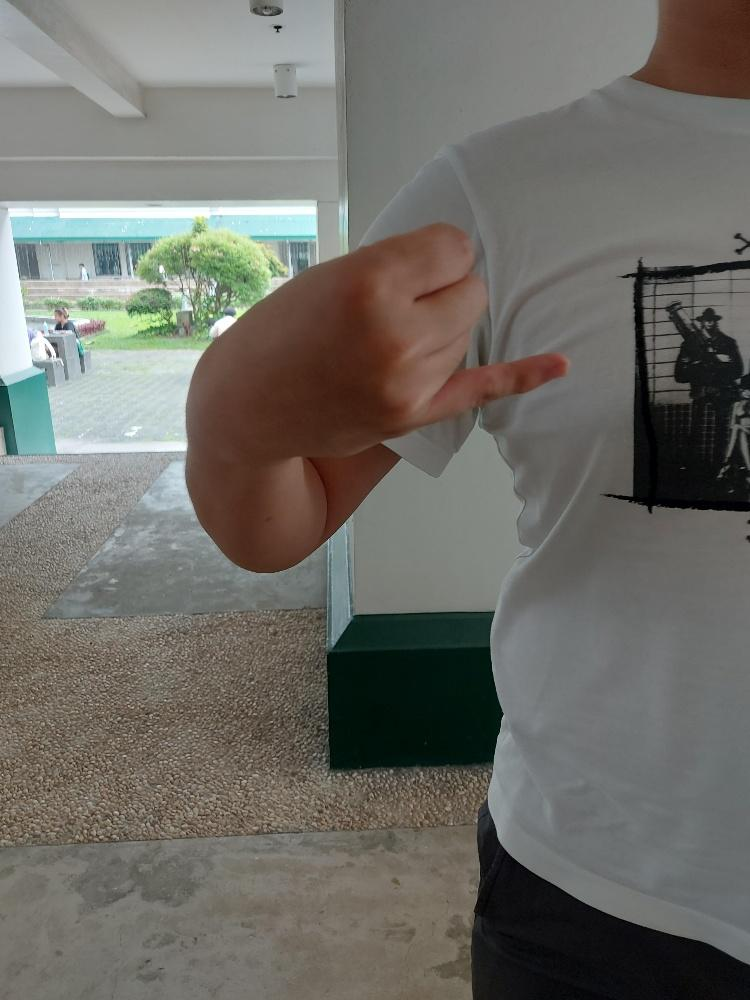j: (185, 219, 572, 462)
